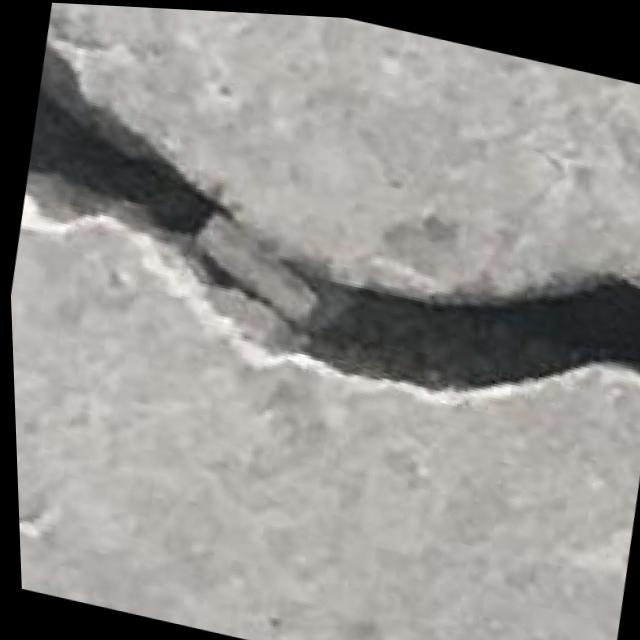Crack: (0, 5, 640, 458)
